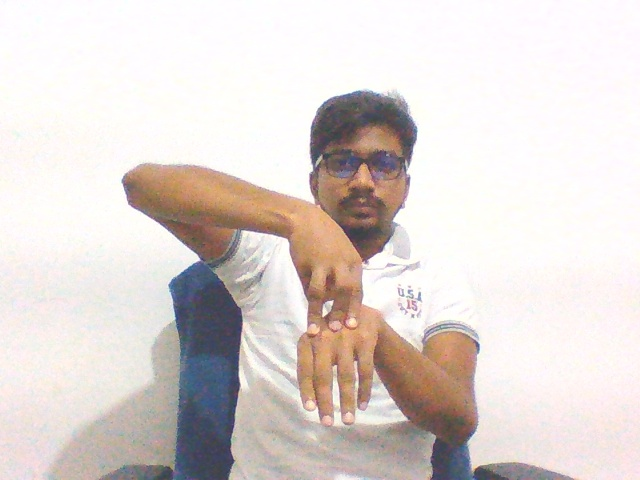papaya: (281, 188, 384, 444)
